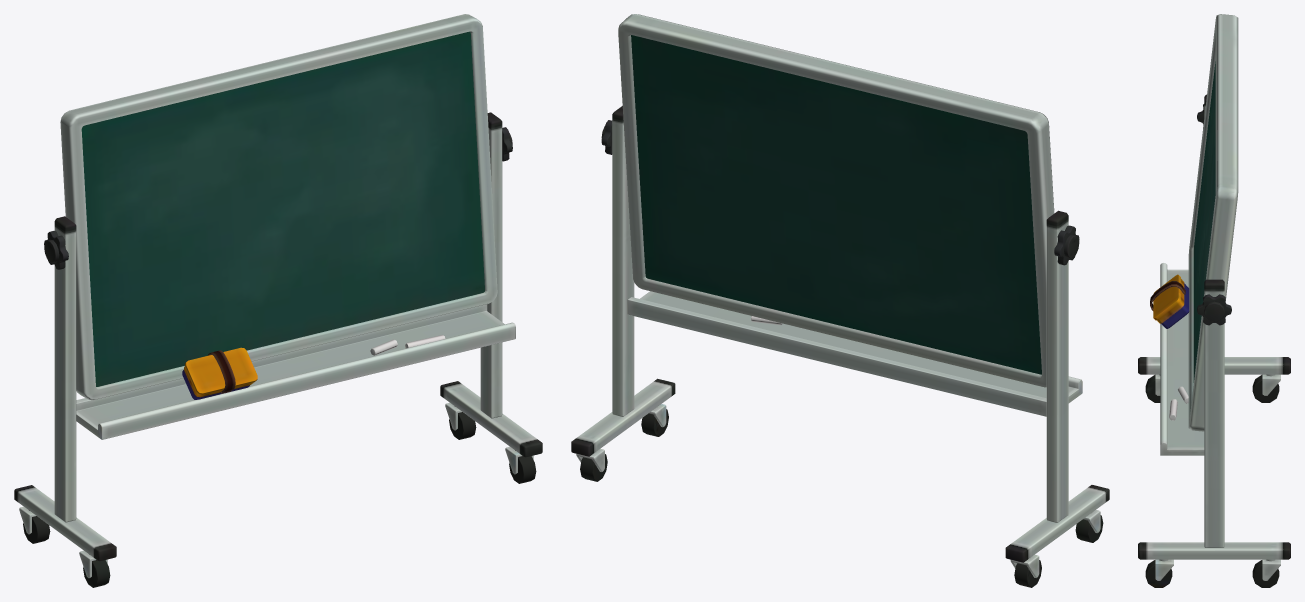
3 renders of one model, left to right at view 1: azimuth 30°, elevation 25°; view 2: azimuth 150°, elevation 25°; view 3: azimuth 270°, elevation 25°, orthographic. The views are drawn at different scales.
Bounding box in the file's own units: 18.36 × 16.91 × 5.97.
1 material, 1 textured.
